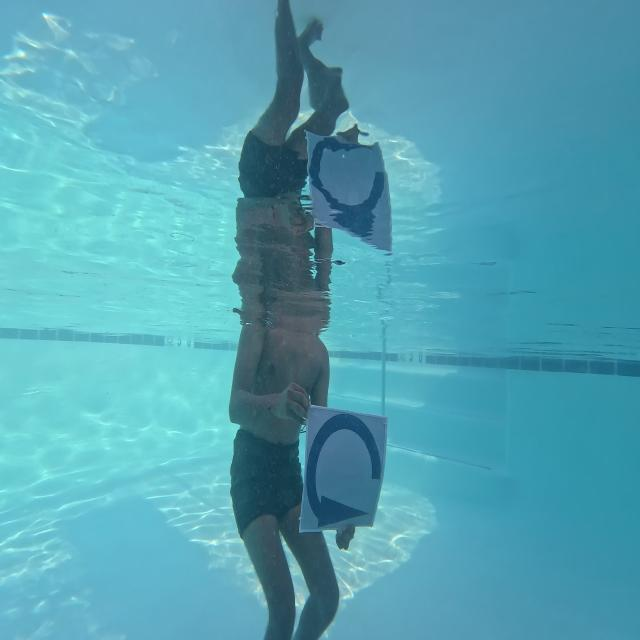blue_side: (299, 391, 383, 543)
